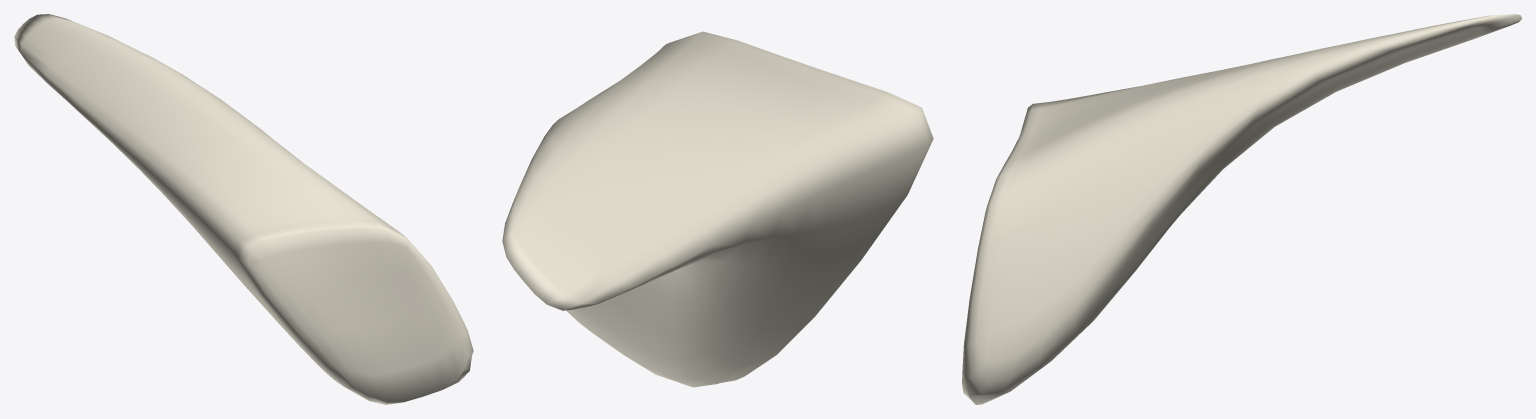
3 views of the same model, side by side, from view 1: azimuth 30°, elevation 25°; view 2: azimuth 150°, elevation 25°; view 3: azimuth 270°, elevation 25° (orthographic). The views are drawn at different scales.
Visible parts, largest first — view 1: ZA_c840decc45ad52f4; view 2: ZA_c840decc45ad52f4; view 3: ZA_c840decc45ad52f4.
Boxes of the visible parts, box(x1,y1,x2,y2) form: ZA_c840decc45ad52f4: box(14, 14, 473, 404); ZA_c840decc45ad52f4: box(502, 31, 933, 387); ZA_c840decc45ad52f4: box(962, 14, 1521, 404).
Size of the model in its own units: 0.0136 by 0.0146 by 0.0245.
